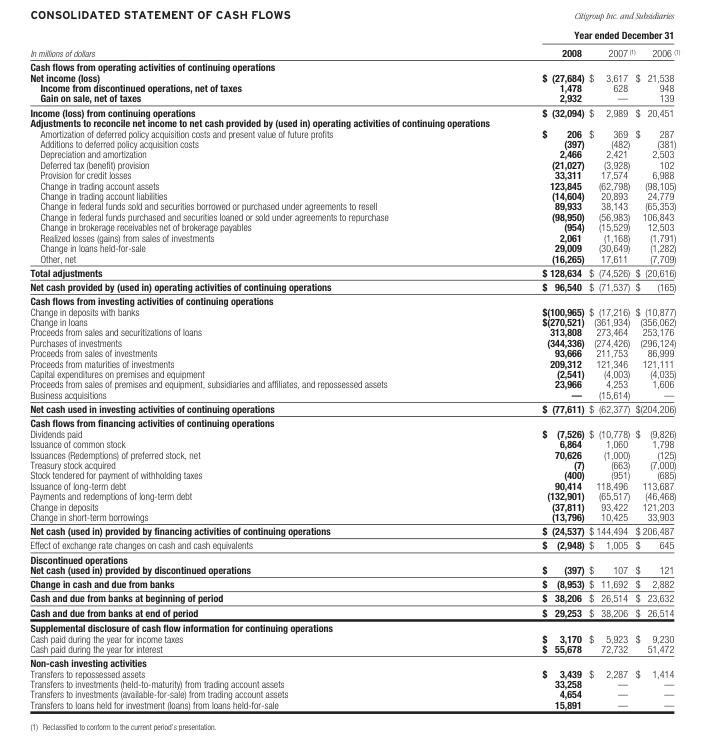table: (29, 28, 679, 710)
table column: (29, 28, 464, 710), (464, 28, 586, 710), (586, 28, 634, 710), (634, 28, 679, 710)
table column header: (29, 28, 679, 59)
table projected row header: (29, 551, 679, 564), (29, 619, 679, 632), (29, 59, 679, 71), (29, 293, 679, 305), (29, 415, 679, 427), (29, 655, 679, 667), (29, 117, 679, 127)
table row: (29, 43, 679, 59), (29, 28, 679, 43), (29, 264, 679, 279), (29, 604, 679, 619), (29, 279, 679, 293), (29, 401, 679, 415), (29, 523, 679, 537), (29, 537, 679, 551), (29, 576, 679, 590), (29, 590, 679, 604), (29, 104, 679, 117), (29, 388, 679, 401), (29, 551, 679, 564), (29, 619, 679, 632), (29, 59, 679, 71), (29, 92, 679, 104), (29, 252, 679, 264), (29, 293, 679, 305), (29, 415, 679, 427), (29, 511, 679, 523), (29, 564, 679, 576), (29, 643, 679, 655), (29, 655, 679, 667), (29, 698, 679, 710), (29, 71, 679, 82), (29, 127, 679, 138), (29, 158, 679, 169), (29, 179, 679, 190), (29, 210, 679, 221), (29, 231, 679, 242), (29, 305, 679, 316), (29, 336, 679, 347), (29, 357, 679, 368), (29, 427, 679, 438), (29, 448, 679, 459), (29, 479, 679, 490), (29, 500, 679, 511), (29, 632, 679, 643), (29, 667, 679, 678), (29, 82, 679, 92), (29, 117, 679, 127), (29, 138, 679, 148), (29, 148, 679, 158), (29, 169, 679, 179), (29, 190, 679, 200), (29, 200, 679, 210), (29, 221, 679, 231), (29, 242, 679, 252), (29, 316, 679, 326), (29, 326, 679, 336), (29, 347, 679, 357), (29, 368, 679, 378), (29, 378, 679, 388), (29, 438, 679, 448), (29, 459, 679, 469), (29, 469, 679, 479), (29, 490, 679, 500), (29, 678, 679, 688), (29, 688, 679, 698)
table spanning cell: (29, 28, 464, 59), (464, 28, 679, 43)
